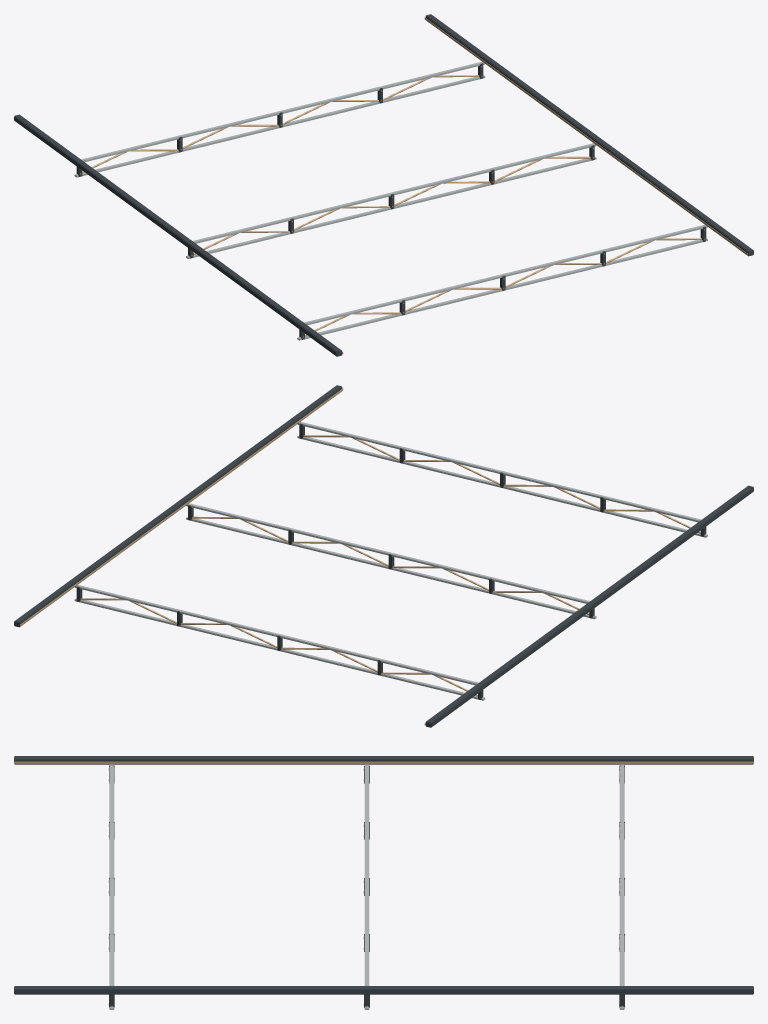
Rendered from A-roof-trusses.glb.
3 views of the same model, one above another, from view 1: azimuth 30°, elevation 25°; view 2: azimuth 150°, elevation 25°; view 3: azimuth 270°, elevation 25° (orthographic). The views are drawn at different scales.
Visible parts, largest first — view 1: A-roof-trusses-metal, A-roof-trusses-basalt, A-roof-trusses-bronze; view 2: A-roof-trusses-metal, A-roof-trusses-basalt, A-roof-trusses-bronze; view 3: A-roof-trusses-basalt, A-roof-trusses-metal, A-roof-trusses-bronze.
Part boxes in pixels (x1,y1,x2,y2): A-roof-trusses-metal: (74,61,707,340); A-roof-trusses-basalt: (14,14,753,356); A-roof-trusses-bronze: (77,17,747,353); A-roof-trusses-metal: (74,421,707,700); A-roof-trusses-basalt: (14,385,753,727); A-roof-trusses-bronze: (20,388,705,724); A-roof-trusses-basalt: (14,756,753,1007); A-roof-trusses-metal: (109,764,624,1009); A-roof-trusses-bronze: (14,761,753,1006).
Bounding box in the file's own units: 32.48 × 1.52 × 43.5.
